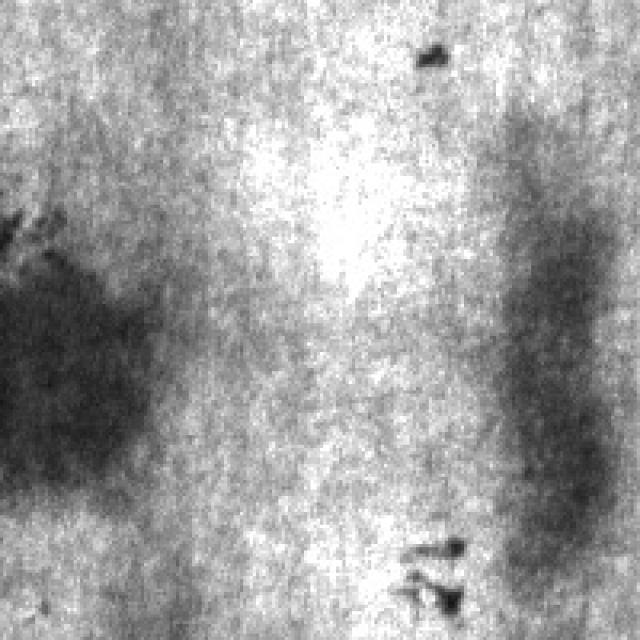patches: (0, 204, 157, 522), (502, 205, 612, 534)
